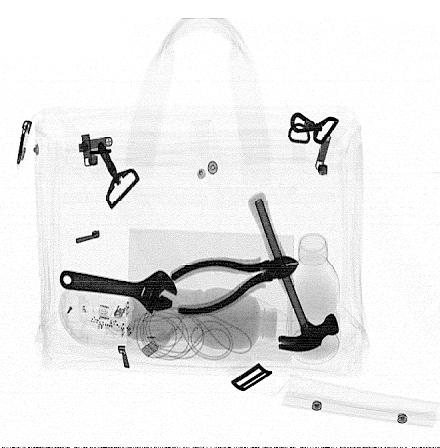Hammer: (245, 189, 341, 353)
Pliers: (169, 253, 301, 322)
Wrench: (57, 268, 179, 317)
